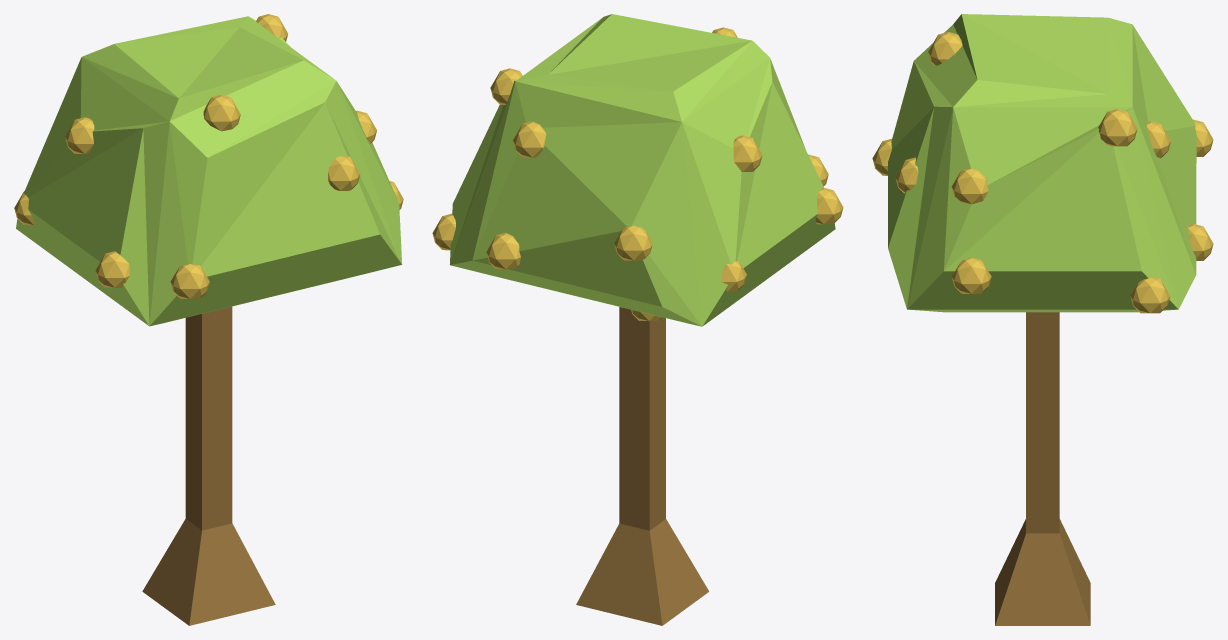
Rendered from tree1.fbx.
3 renders of one model, left to right at view 1: azimuth 30°, elevation 25°; view 2: azimuth 150°, elevation 25°; view 3: azimuth 270°, elevation 25°, orthographic.
Parts seen in each view (by area): view 1: Cube_27; view 2: Cube_27; view 3: Cube_27.
Boxes of the visible parts, left/top/right/bottom form: Cube_27: left=14, top=14, right=403, bottom=625; Cube_27: left=432, top=14, right=843, bottom=625; Cube_27: left=872, top=14, right=1213, bottom=625.
Bounding box in the file's own units: 172 × 290 × 162.
